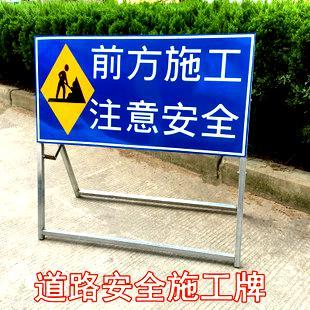sign: (38, 38, 250, 146)
